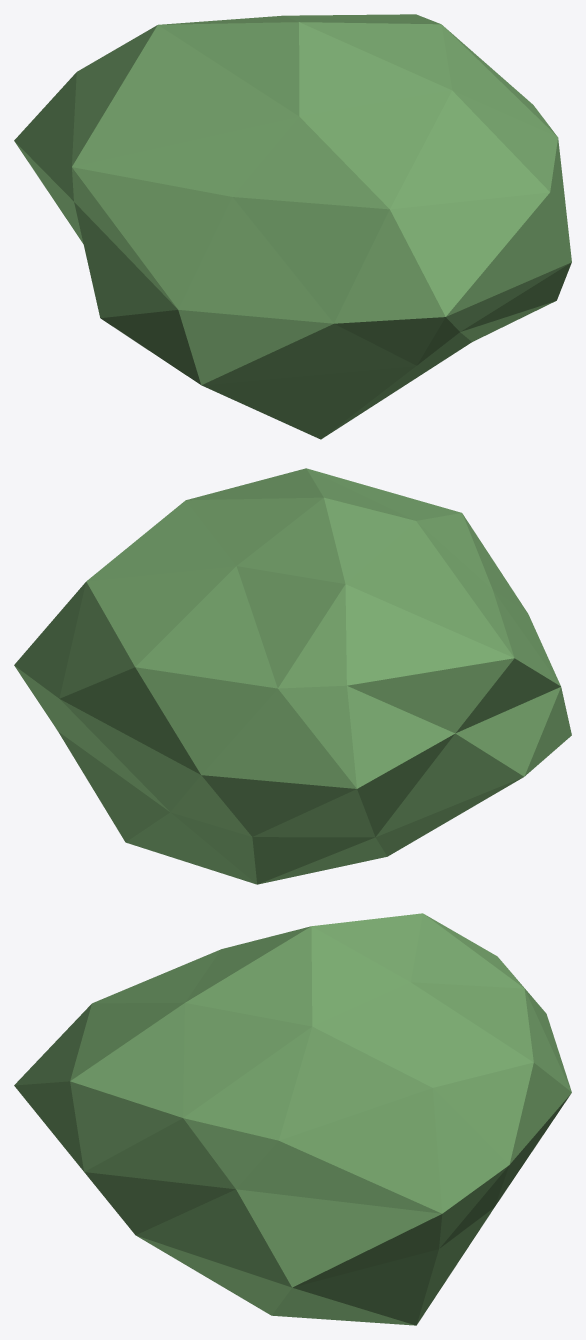
The model's file is bush_green_02.glb.
3 views of the same model, one above another, from view 1: azimuth 30°, elevation 25°; view 2: azimuth 150°, elevation 25°; view 3: azimuth 270°, elevation 25° (orthographic). The views are drawn at different scales.
Visible parts, largest first — view 1: bush_green_02; view 2: bush_green_02; view 3: bush_green_02.
Boxes of the visible parts, box(x1,y1,x2,y2) form: bush_green_02: box(14, 14, 571, 439); bush_green_02: box(14, 468, 571, 884); bush_green_02: box(14, 913, 571, 1325).
Size of the model in its own units: 1.15 by 0.866 by 1.26.
